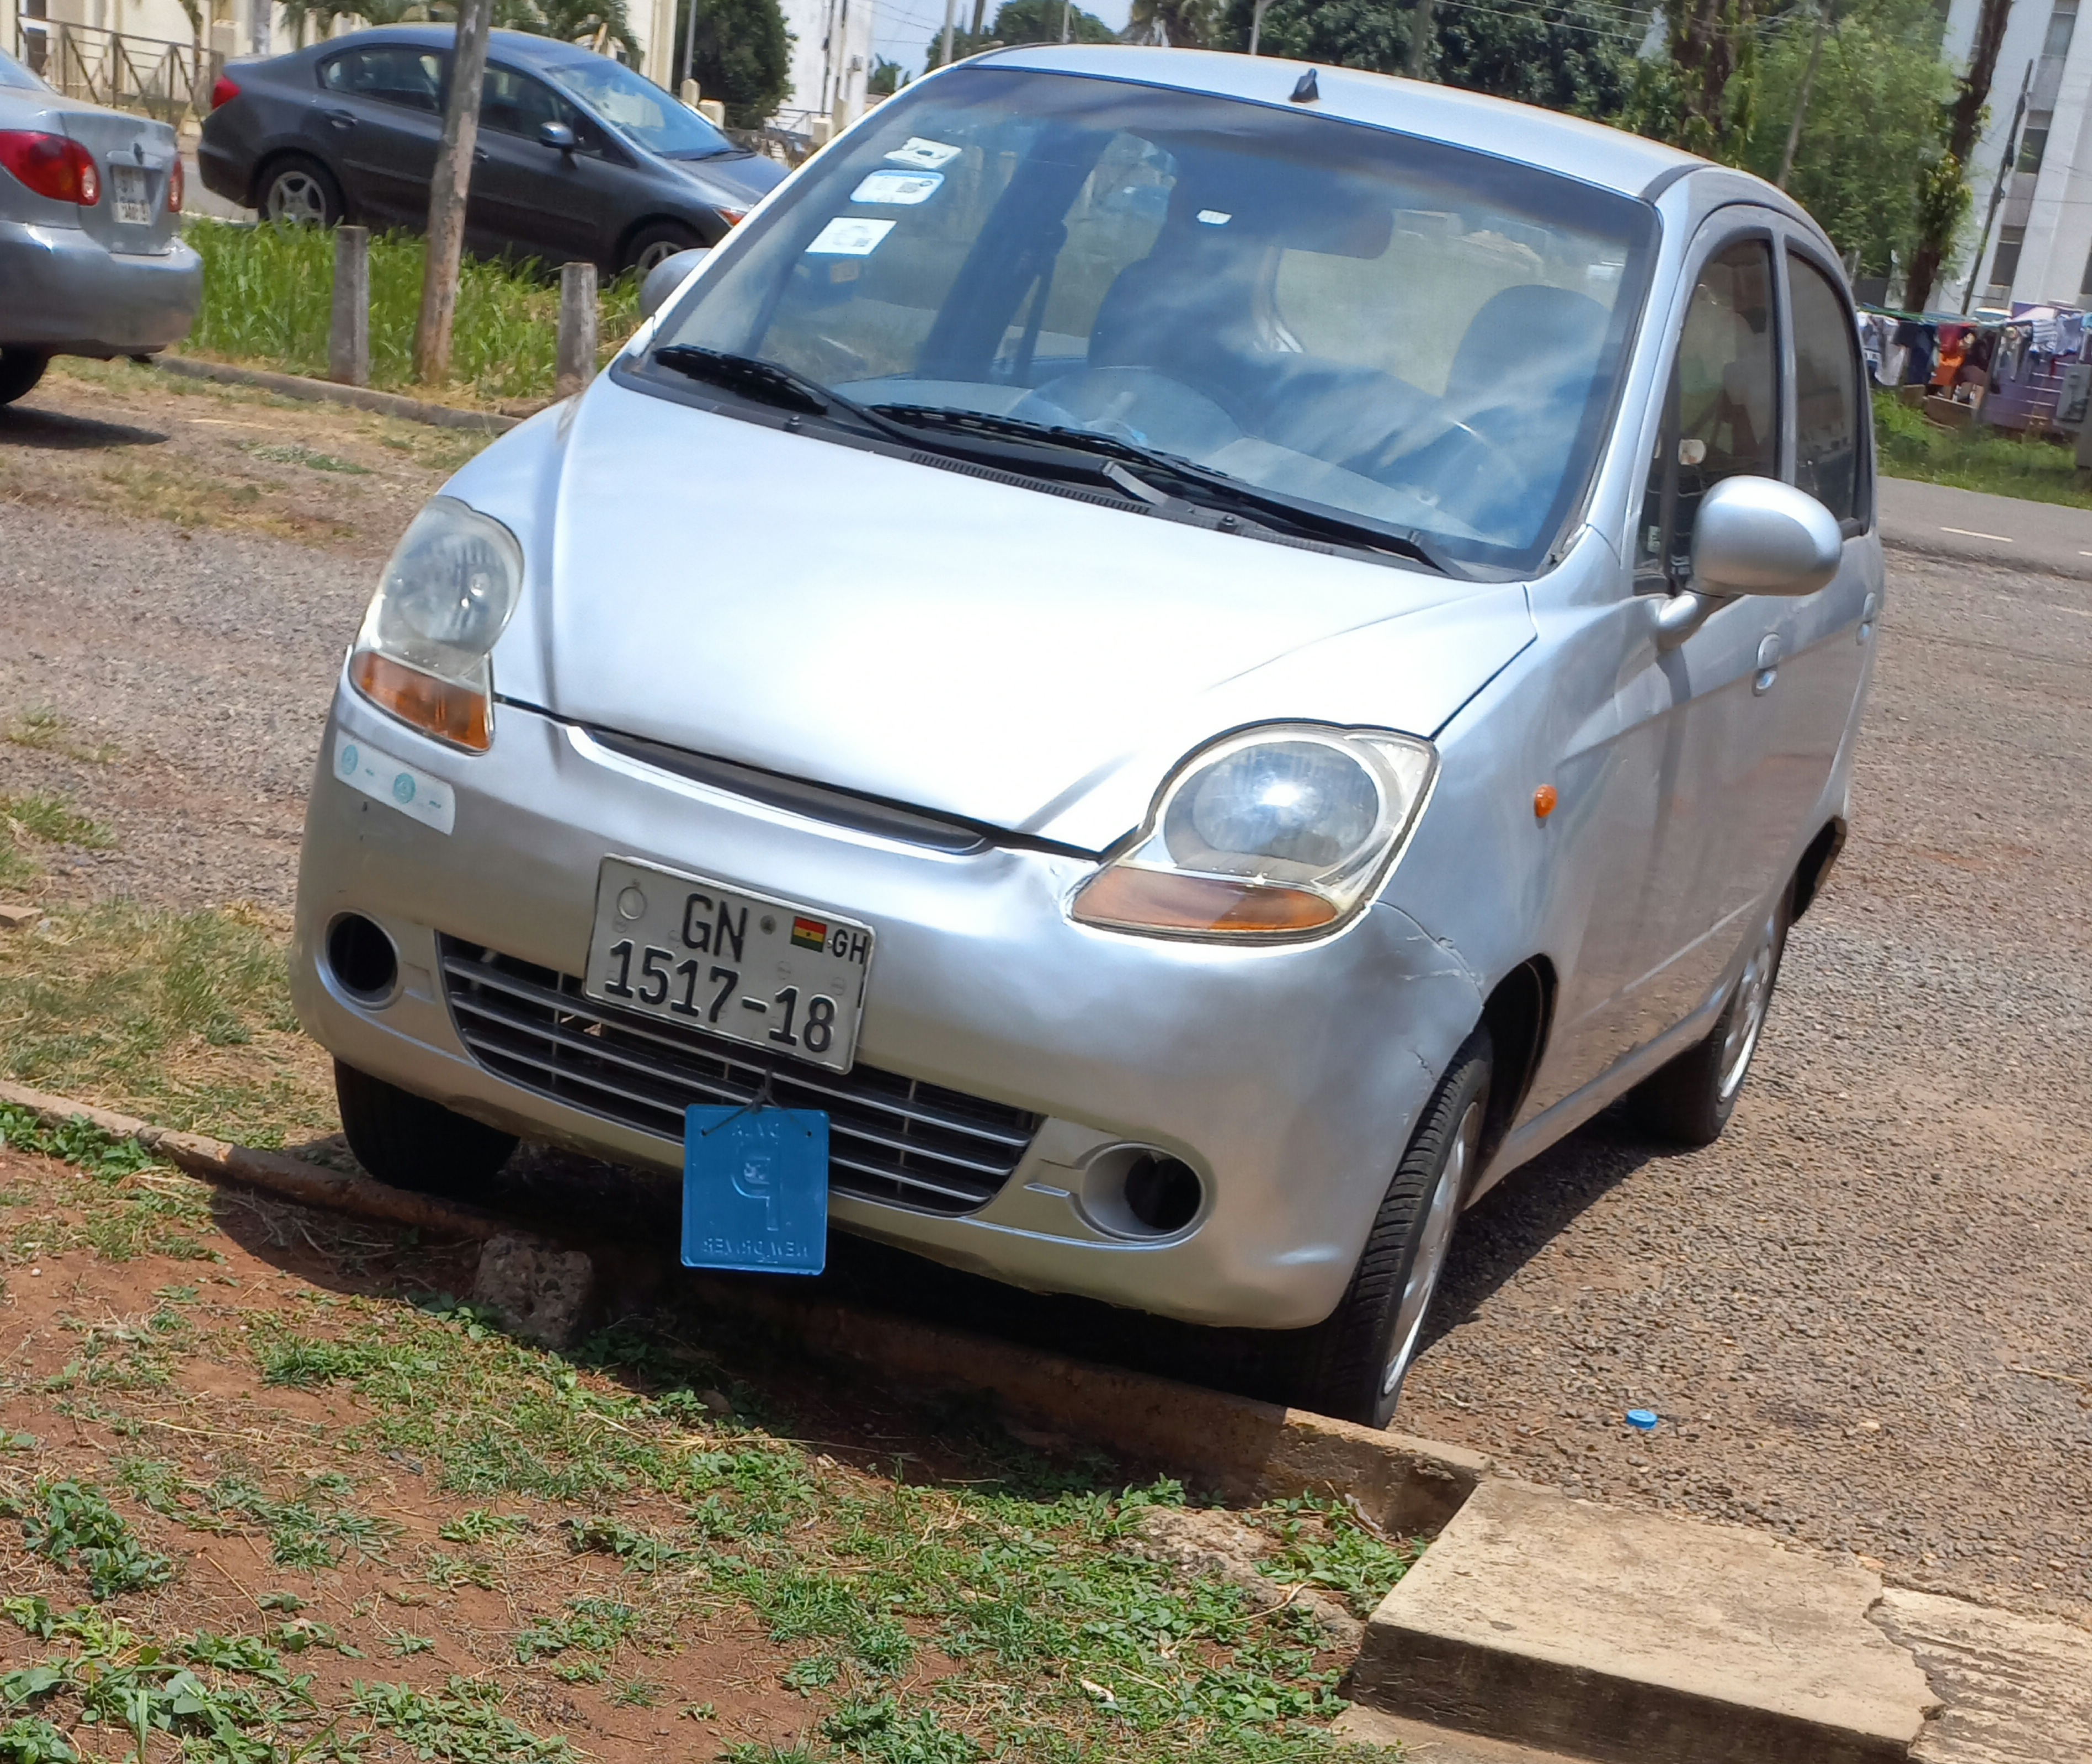number_plates: (582, 871, 871, 1084)
